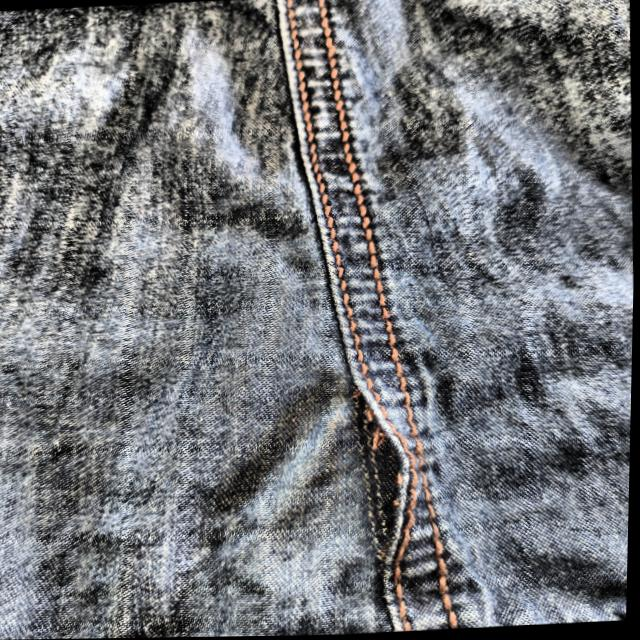seam: (305, 378, 439, 573)
